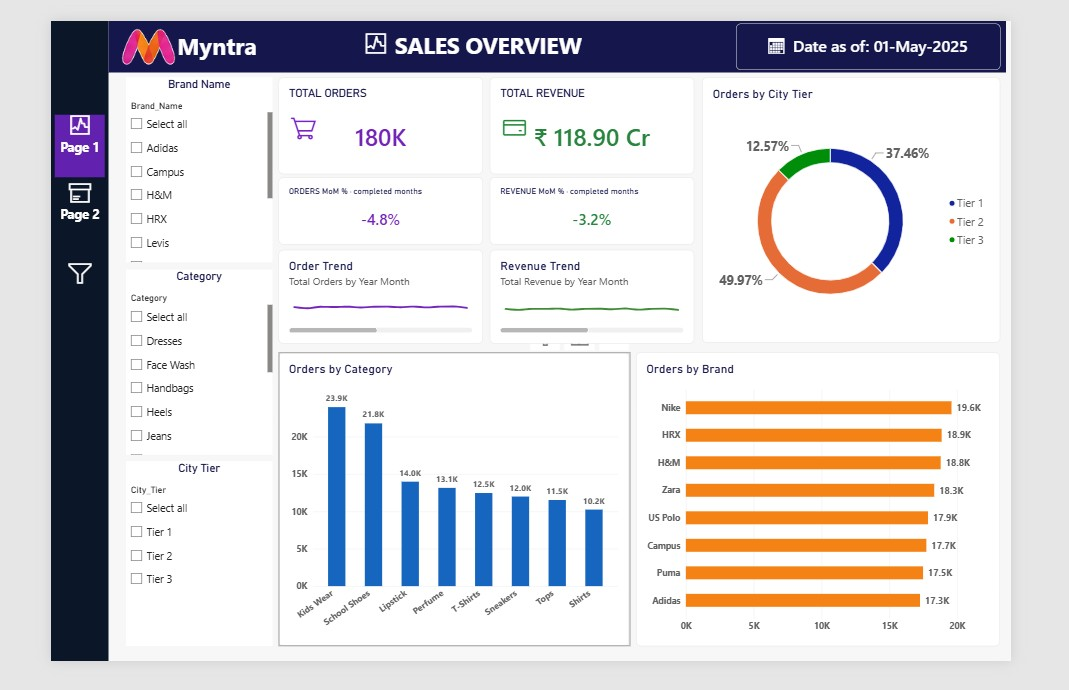

The dashboard page shown, as its layout file describes it:
{"tool":"powerbi","page":{"name":"Sales Overview","canvas":[1536,1024],"ordinal":0},"visuals":[{"type":"textbox","box":[0,0,92,1024],"z":0},{"type":"textbox","box":[92,0,1436,82],"z":1000},{"type":"textbox","box":[6,150,80,100],"z":2000},{"type":"textbox","box":[6,258,80,100],"z":3000},{"type":"slicer","title":"Category","fields":{"Values":["myntra_product_catalog.Category"]},"box":[119,397,234,296],"z":4000},{"type":"slicer","title":"Brand Name","fields":{"Values":["myntra_product_catalog.Brand_Name"]},"box":[119,90,234,296],"z":5000},{"type":"clusteredBarChart","title":"Orders by Brand","fields":{"Category":["myntra_product_catalog.Brand_Name"],"Y":["myntra_orders_master_.Total Orders"]},"box":[936,530,582,470],"z":6000},{"type":"clusteredColumnChart","title":"Orders by Category","fields":{"Category":["myntra_product_catalog.Category"],"Y":["myntra_orders_master_.Total Orders"]},"box":[364,530,561,470],"z":7000},{"type":"card","title":"DATA AS OF","fields":{"Values":["myntra_orders_master_.Data As Of"]},"box":[1095,4,423,74],"z":8000},{"type":"slicer","title":"City Tier","fields":{"Values":["myntra_orders_master_.City_Tier"]},"box":[119,704,234,296],"z":9000},{"type":"card","title":"TOTAL ORDERS","fields":{"Values":["myntra_orders_master_.Total Orders"]},"box":[364,90,327,155],"z":10000},{"type":"card","title":"ORDERS MoM % · completed months","fields":{"Values":["myntra_orders_master_.Orders MoM %"]},"box":[364,250,327,108],"z":11000},{"type":"lineChart","title":"Revenue Trend","fields":{"Category":["Date_Table.Year Month"],"Y":["myntra_orders_master_.Total Revenue"]},"box":[702,365,327,150],"z":12000},{"type":"lineChart","title":"Order Trend","fields":{"Category":["Date_Table.Year Month"],"Y":["myntra_orders_master_.Total Orders"]},"box":[364,365,327,150],"z":13000},{"type":"donutChart","title":"Orders by City Tier","fields":{"Category":["myntra_orders_master_.City_Tier"],"Y":["myntra_orders_master_.Total Orders"]},"box":[1041,90,477,425],"z":14000},{"type":"card","title":"TOTAL REVENUE","fields":{"Values":["myntra_orders_master_.Revenue Crore"]},"box":[702,90,327,155],"z":15000},{"type":"card","title":"REVENUE MoM % · completed months","fields":{"Values":["myntra_orders_master_.Revenue MoM %"]},"box":[702,250,327,108],"z":16000},{"type":"textbox","box":[490,15,60,55],"z":17000},{"type":"textbox","box":[12,385,68,65],"z":18000},{"type":"textbox","box":[373,151,60,62],"z":19000},{"type":"textbox","box":[711,151,60,62],"z":20000},{"type":"image","box":[110,10,92,62],"z":21000},{"type":"textbox","box":[202,13,180,60],"z":22000},{"type":"textbox","box":[550,13,540,60],"z":23000},{"type":"actionButton","box":[6,150,80,100],"z":24000},{"type":"actionButton","box":[6,258,80,100],"z":25000}]}

Visuals, with their boxes on the page's 1536x1024 design canvas (x1, y1, x2, y2). These are canvas units, not pixel positions in the 1069x690 screenshot, which may show the page scaled, cropped or inside an application window:
textbox: 0:0:92:1024
textbox: 92:0:1528:82
textbox: 6:150:86:250
textbox: 6:258:86:358
"Category" slicer: 119:397:353:693
"Brand Name" slicer: 119:90:353:386
"Orders by Brand" clusteredBarChart: 936:530:1518:1000
"Orders by Category" clusteredColumnChart: 364:530:925:1000
"DATA AS OF" card: 1095:4:1518:78
"City Tier" slicer: 119:704:353:1000
"TOTAL ORDERS" card: 364:90:691:245
"ORDERS MoM % · completed months" card: 364:250:691:358
"Revenue Trend" lineChart: 702:365:1029:515
"Order Trend" lineChart: 364:365:691:515
"Orders by City Tier" donutChart: 1041:90:1518:515
"TOTAL REVENUE" card: 702:90:1029:245
"REVENUE MoM % · completed months" card: 702:250:1029:358
textbox: 490:15:550:70
textbox: 12:385:80:450
textbox: 373:151:433:213
textbox: 711:151:771:213
image: 110:10:202:72
textbox: 202:13:382:73
textbox: 550:13:1090:73
actionButton: 6:150:86:250
actionButton: 6:258:86:358
